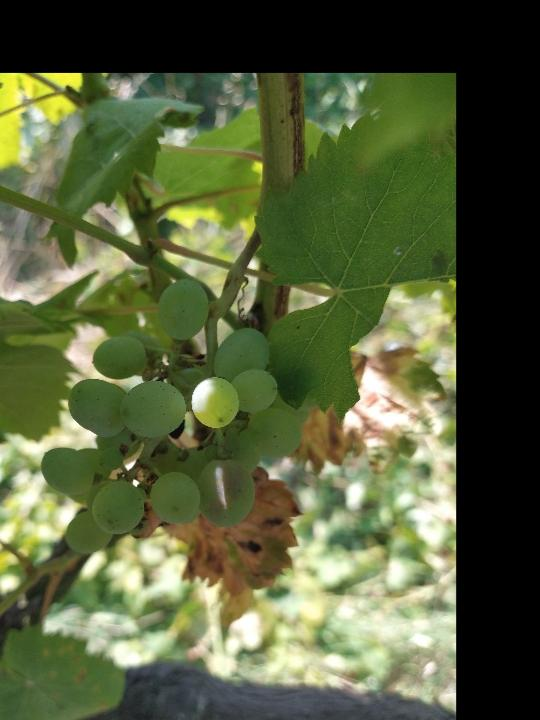grape: (38, 278, 313, 559)
